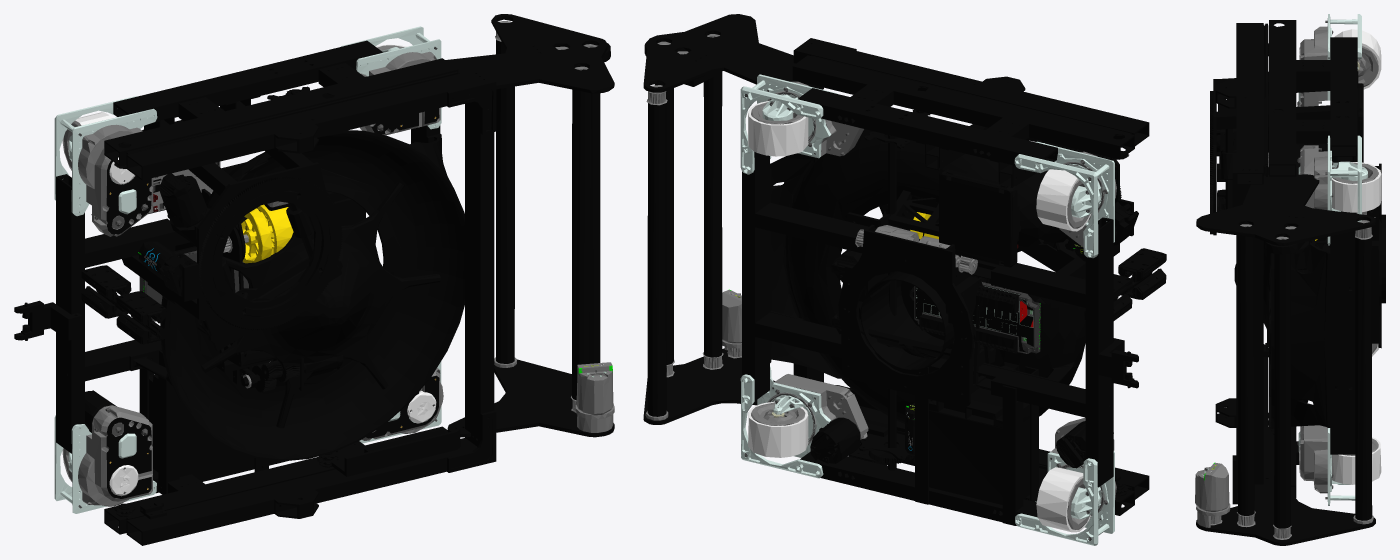
The picture shows the model from 3 angles, left to right: view 1: azimuth 30°, elevation 25°; view 2: azimuth 150°, elevation 25°; view 3: azimuth 270°, elevation 25°; orthographic projection. The views are drawn at different scales.
Parts seen in each view (by area): view 1: main_mesh, c1_mesh, c0_mesh; view 2: main_mesh, c1_mesh, c0_mesh; view 3: main_mesh, c1_mesh, c0_mesh.
Part boxes in pixels (x1,y1,x2,y2): main_mesh: (14, 26, 496, 545); c1_mesh: (445, 14, 614, 437); c0_mesh: (168, 162, 343, 392); main_mesh: (740, 38, 1166, 545); c1_mesh: (643, 14, 800, 424); c0_mesh: (838, 190, 995, 407); main_mesh: (1210, 14, 1381, 505); c1_mesh: (1195, 165, 1375, 545); c0_mesh: (1267, 152, 1385, 348).
Bounding box in the file's own units: 1.03 × 0.6922 × 0.3554.
